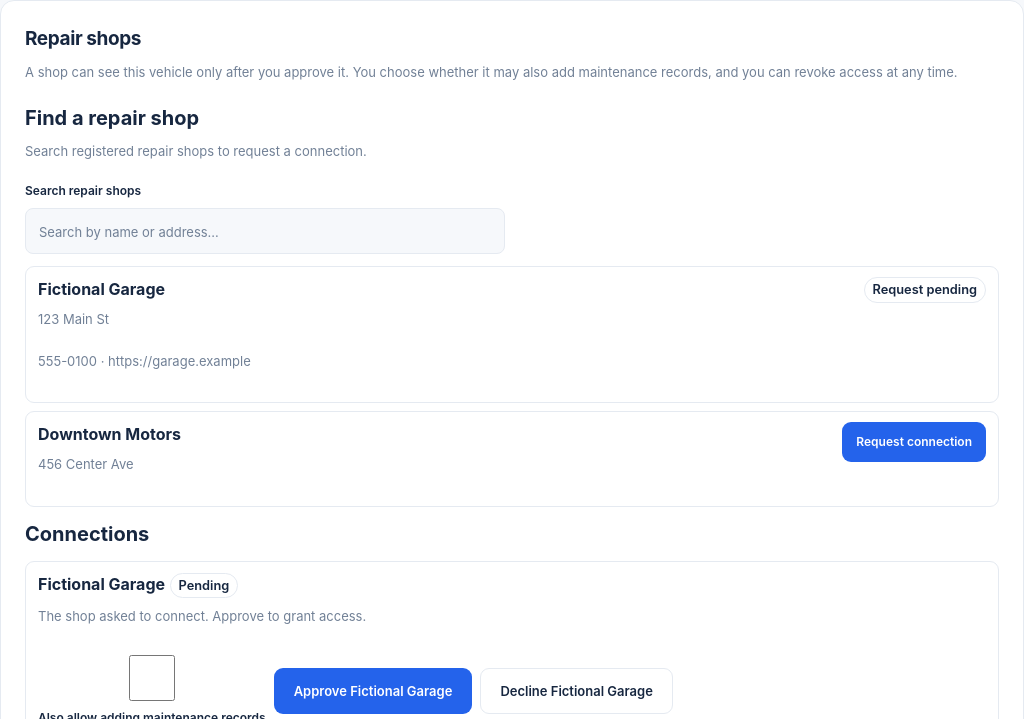
Test: approves a shop-initiated request only with the explicitly chosen permission
Expected: the text "Pending" is shown, [170, 573, 238, 598]
Click the checkbox labelled "Also allow adding maintenance records". click: (152, 678)
box: [38, 655, 266, 701]
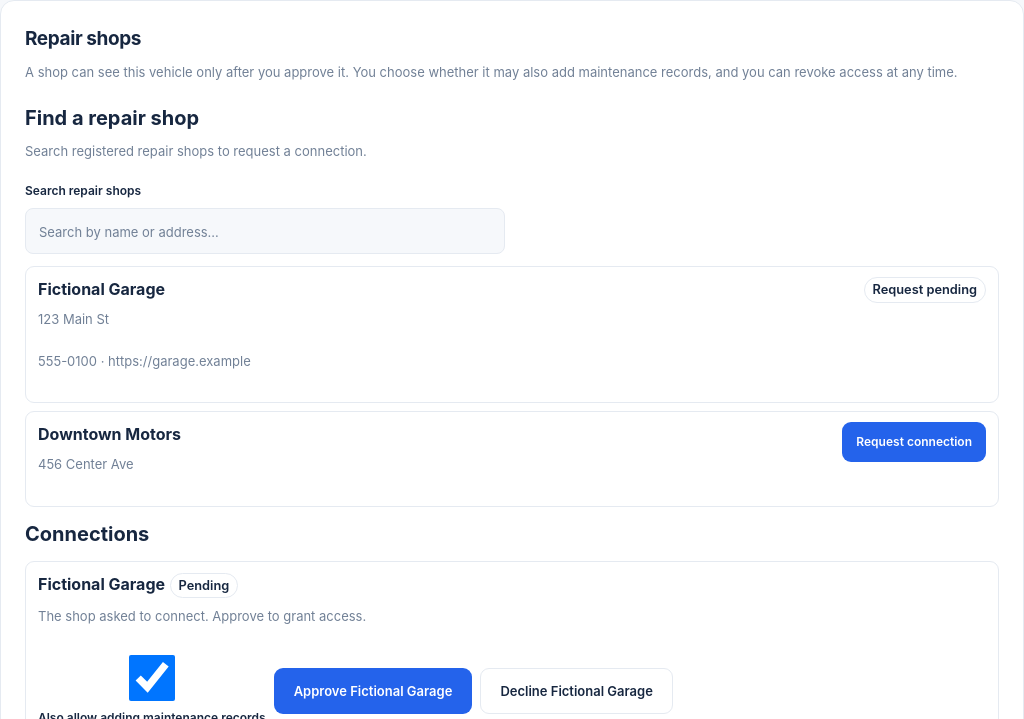
Click the button "Approve Fictional Garage". click: (373, 691)
box: [274, 668, 472, 714]
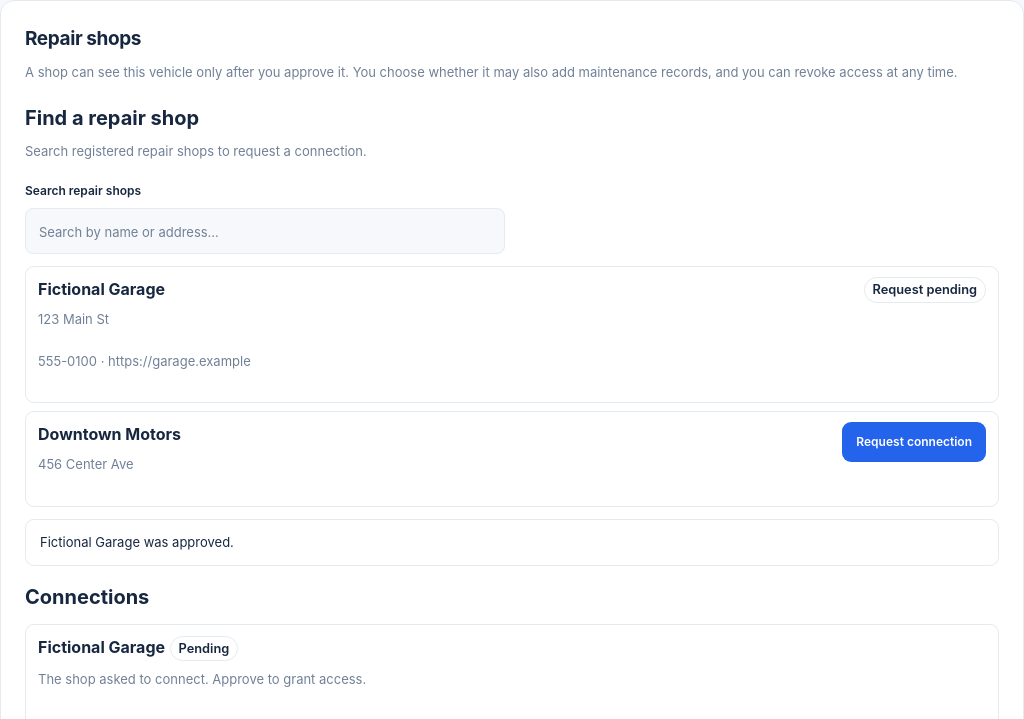
Now the text "Fictional Garage was approved." is shown, box [25, 519, 999, 566]
